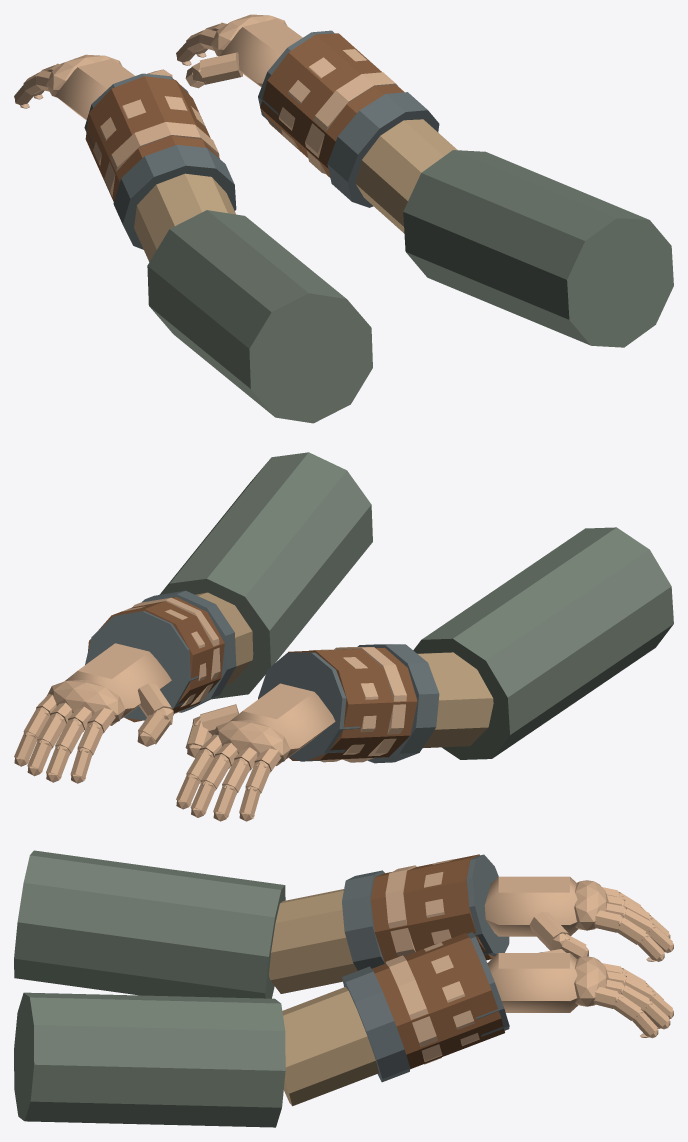
Rendered from first_person_arms.glb.
The picture shows the model from 3 angles, top to bottom: view 1: azimuth 30°, elevation 25°; view 2: azimuth 150°, elevation 25°; view 3: azimuth 270°, elevation 25°; orthographic projection. The views are drawn at different scales.
Visible parts, largest first — view 1: Arm_1_Sleeve, Arm_-1_Sleeve, Arm_1_Bracer, Arm_-1_Bracer, Arm_1_Forearm, Arm_1_BracerBand0, Arm_-1_BracerBand0, Arm_-1_Forearm, Arm_1_Hand, Arm_-1_Hand, Arm_1_BracerBand1, Arm_-1_BracerBand1 (+6 smaller); view 2: Arm_-1_Sleeve, Arm_1_Sleeve, Arm_-1_Bracer, Arm_-1_Forearm, Arm_1_BracerBand3, Arm_-1_BracerBand3, Arm_-1_Hand, Arm_1_Hand, Arm_1_Bracer, Arm_-1_BracerBand0, Arm_1_BracerBand0, Arm_1_Knuckles (+8 smaller); view 3: Arm_1_Sleeve, Arm_-1_Sleeve, Arm_1_Bracer, Arm_1_Forearm, Arm_-1_Forearm, Arm_-1_Bracer, Arm_1_Hand, Arm_-1_Hand, Arm_1_BracerBand0, Arm_-1_BracerBand0, Arm_-1_BracerBand3, Arm_1_BracerBand1 (+10 smaller).
Boxes of the visible parts, x1,y1,x2,y2 form: Arm_1_Sleeve: (403, 150, 673, 347); Arm_-1_Sleeve: (147, 210, 372, 423); Arm_1_Bracer: (260, 33, 404, 177); Arm_-1_Bracer: (85, 76, 219, 201); Arm_1_Forearm: (355, 119, 457, 233); Arm_1_BracerBand0: (327, 92, 439, 207); Arm_-1_BracerBand0: (113, 145, 236, 249); Arm_-1_Forearm: (134, 173, 235, 261); Arm_1_Hand: (220, 18, 302, 87); Arm_-1_Hand: (55, 59, 134, 120); Arm_1_BracerBand1: (305, 72, 397, 174); Arm_-1_BracerBand1: (104, 122, 219, 196); Arm_-1_Sleeve: (413, 527, 673, 759); Arm_1_Sleeve: (159, 452, 372, 699); Arm_-1_Bracer: (288, 648, 417, 760); Arm_-1_Forearm: (417, 652, 493, 747); Arm_1_BracerBand3: (85, 611, 198, 720); Arm_-1_BracerBand3: (258, 652, 359, 761); Arm_-1_Hand: (229, 683, 335, 765); Arm_1_Hand: (65, 643, 171, 725); Arm_1_Bracer: (88, 597, 224, 722); Arm_-1_BracerBand0: (357, 644, 439, 763); Arm_1_BracerBand0: (141, 590, 236, 712); Arm_1_Knuckles: (47, 680, 125, 723); Arm_1_Sleeve: (14, 992, 285, 1127); Arm_-1_Sleeve: (14, 850, 285, 998); Arm_1_Bracer: (372, 933, 504, 1068); Arm_1_Forearm: (282, 987, 378, 1106); Arm_-1_Forearm: (269, 889, 357, 993); Arm_-1_Bracer: (371, 854, 493, 963); Arm_1_Hand: (487, 953, 578, 1012); Arm_-1_Hand: (484, 876, 578, 936); Arm_1_BracerBand0: (342, 966, 410, 1082); Arm_-1_BracerBand0: (342, 870, 384, 970); Arm_-1_BracerBand3: (466, 854, 509, 956); Arm_1_BracerBand1: (385, 955, 442, 1064).
Size of the model in its own units: 1.23 by 0.4927 by 1.76.
